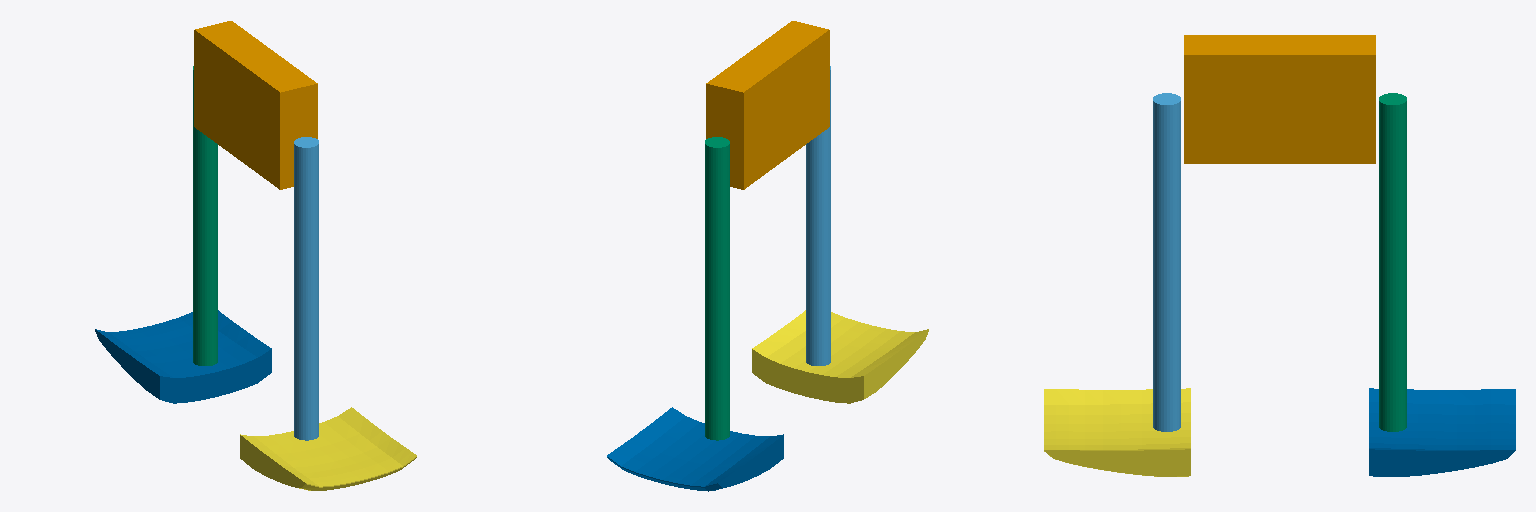
URDF robot description (passive_walker):
<?xml version="1.0" encoding="utf-8"?>
<robot name="passive_walker">
  <link name="root">
    <inertial>
      <origin xyz="0.0 0.0 0.0" rpy="0.0 0.0 0.0"/>
      <mass value="0.5"/>
      <inertia ixx="0.037083333333333336" ixy="0.0" ixz="0.0" iyy="0.012083333333333335" iyz="0.0" izz="0.02833333333333334"/>
    </inertial>
    <visual name="root_visual">
      <origin xyz="0.0 0.0 0.0" rpy="0.0 0.0 0.0"/>
      <geometry>
        <box size="0.2 0.8 0.5"/>
      </geometry>
    </visual>
    <collision name="root_collision">
      <origin xyz="0.0 0.0 0.0" rpy="0.0 0.0 0.0"/>
      <geometry>
        <box size="0.2 0.8 0.5"/>
      </geometry>
    </collision>
  </link>
  <link name="left_leg">
    <inertial>
      <origin xyz="0.0 0.0 -0.75" rpy="0.0 0.0 0.0"/>
      <mass value="0.2"/>
      <inertia ixx="0.037680000000000005" ixy="0.0" ixz="0.0" iyy="0.037680000000000005" iyz="0.0" izz="0.00036"/>
    </inertial>
    <visual name="left_leg_visual">
      <origin xyz="0.0 0.0 -0.75" rpy="0.0 0.0 0.0"/>
      <geometry>
        <cylinder radius="0.06" length="1.5"/>
      </geometry>
    </visual>
    <collision name="left_leg_collision">
      <origin xyz="0.0 0.0 -0.75" rpy="0.0 0.0 0.0"/>
      <geometry>
        <cylinder radius="0.06" length="1.5"/>
      </geometry>
    </collision>
  </link>
  <link name="right_leg">
    <inertial>
      <origin xyz="0.0 0.0 -0.75" rpy="0.0 0.0 0.0"/>
      <mass value="0.2"/>
      <inertia ixx="0.037680000000000005" ixy="0.0" ixz="0.0" iyy="0.037680000000000005" iyz="0.0" izz="0.00036"/>
    </inertial>
    <visual name="right_leg_visual">
      <origin xyz="0.0 0.0 -0.75" rpy="0.0 0.0 0.0"/>
      <geometry>
        <cylinder radius="0.06" length="1.5"/>
      </geometry>
    </visual>
    <collision name="right_leg_collision">
      <origin xyz="0.0 0.0 -0.75" rpy="0.0 0.0 0.0"/>
      <geometry>
        <cylinder radius="0.06" length="1.5"/>
      </geometry>
    </collision>
  </link>
  <link name="left_foot">
    <inertial>
      <origin xyz="0.0 0.0 0.0" rpy="0.0 0.0 0.0"/>
      <mass value="3.0"/>
      <inertia ixx="0.01" ixy="2.5547406570745716e-05" ixz="0.0006704452847879228" iyy="0.01" iyz="-0.021354195549583566" izz="0.01"/>
    </inertial>
    <visual name="left_foot_visual">
      <origin xyz="0.0 0.0 0.0" rpy="0.0 0.0 0.0"/>
      <geometry>
        <mesh filename="../../meshes/foot_2.obj" scale="0.3 0.3 0.3"/>
      </geometry>
    </visual>
    <collision name="left_foot_collision">
      <origin xyz="0.0 0.0 0.0" rpy="0.0 0.0 0.0"/>
      <geometry>
        <mesh filename="../../meshes/foot_2.obj" scale="0.3 0.3 0.3"/>
      </geometry>
    </collision>
  </link>
  <link name="right_foot">
    <inertial>
      <origin xyz="0.0 0.0 0.0" rpy="0.0 0.0 0.0"/>
      <mass value="0.5"/>
      <inertia ixx="0.37910792427372064" ixy="2.5547406570745716e-05" ixz="0.0006704452847879228" iyy="0.788029998387879" iyz="-0.021354195549583566" izz="0.4459529083989767"/>
    </inertial>
    <visual name="right_foot_visual">
      <origin xyz="0.0 0.0 0.0" rpy="0.0 0.0 0.0"/>
      <geometry>
        <mesh filename="../../meshes/foot_2.obj" scale="0.3 0.3 0.3"/>
      </geometry>
    </visual>
    <collision name="right_foot_collision">
      <origin xyz="0.0 0.0 0.0" rpy="0.0 0.0 0.0"/>
      <geometry>
        <mesh filename="../../meshes/foot_2.obj" scale="0.3 0.3 0.3"/>
      </geometry>
    </collision>
  </link>
  <joint name="left_hip" type="revolute">
    <origin xyz="0.0 -0.47 0.0" rpy="0.0 0.0 0.0"/>
    <parent link="root"/>
    <child link="left_leg"/>
    <axis xyz="0.0 1.0 0.0"/>
    <dynamics damping="0.0" friction="0.0001"/>
    <limit effort="3.4028235e+38" velocity="3.4028235e+38" lower="-0.1096622711232151" upper="0.1096622711232151"/>
  </joint>
  <joint name="right_hip" type="revolute">
    <origin xyz="0.0 0.47 0.0" rpy="0.0 0.0 0.0"/>
    <parent link="root"/>
    <child link="right_leg"/>
    <axis xyz="0.0 1.0 0.0"/>
    <dynamics damping="2.0" friction="0.0001"/>
    <limit effort="1e+9" velocity="1e+9" lower="-0.5235987755982988" upper="0.5235987755982988"/>
  </joint>
  <joint name="left_ankle" type="fixed">
    <origin xyz="0.0 -0.2 -1.5" rpy="1.5707963267948963 0.0 0.0"/>
    <parent link="left_leg"/>
    <child link="left_foot"/>
  </joint>
  <joint name="right_ankle" type="fixed">
    <origin xyz="0.0 0.2 -1.5" rpy="1.5707963267948963 0.0 3.141592653589793"/>
    <parent link="right_leg"/>
    <child link="right_foot"/>
  </joint>
  <gazebo reference="left_ankle">
    <preserveFixedJoint>true</preserveFixedJoint>
    <disableFixedJointLumping>true</disableFixedJointLumping>
  </gazebo>
  <gazebo reference="right_ankle">
    <preserveFixedJoint>true</preserveFixedJoint>
    <disableFixedJointLumping>true</disableFixedJointLumping>
  </gazebo>
</robot>

--- Facts derived from the render (not from the file) ---
3 views of the same robot in one strip: view 1: azimuth 30°, elevation 25°; view 2: azimuth 150°, elevation 25°; view 3: azimuth 270°, elevation 25° (orthographic).
Model passive_walker with 5 links and 4 joints (2 revolute, 2 fixed), rooted at root, posed every joint at zero.
Links seen in each view (by area): view 1: root, right_foot, left_foot, left_leg, right_leg; view 2: root, left_foot, right_foot, right_leg, left_leg; view 3: root, right_foot, left_foot, left_leg, right_leg.
Link boxes in pixels (x1,y1,x2,y2): root: (194,21,317,189); right_foot: (95,310,271,403); left_foot: (240,407,416,490); left_leg: (294,137,318,440); right_leg: (193,66,217,365); root: (706,21,829,189); left_foot: (752,310,928,403); right_foot: (607,407,783,491); right_leg: (705,137,729,440); left_leg: (806,66,830,365); root: (1184,35,1375,163); right_foot: (1369,388,1515,476); left_foot: (1044,388,1190,476); left_leg: (1153,93,1180,431); right_leg: (1379,93,1406,431).
Size in the robot's own frame: 0.6 by 1.96 by 1.9 metres.
Meshes: 1 distinct files referenced, 2 mesh visuals loaded (1 OBJ).